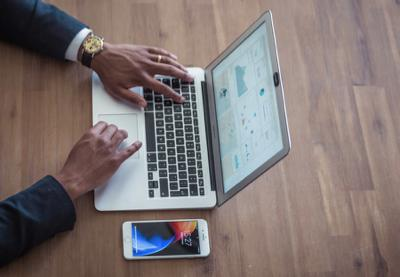cell-phone: (119, 217, 213, 264)
